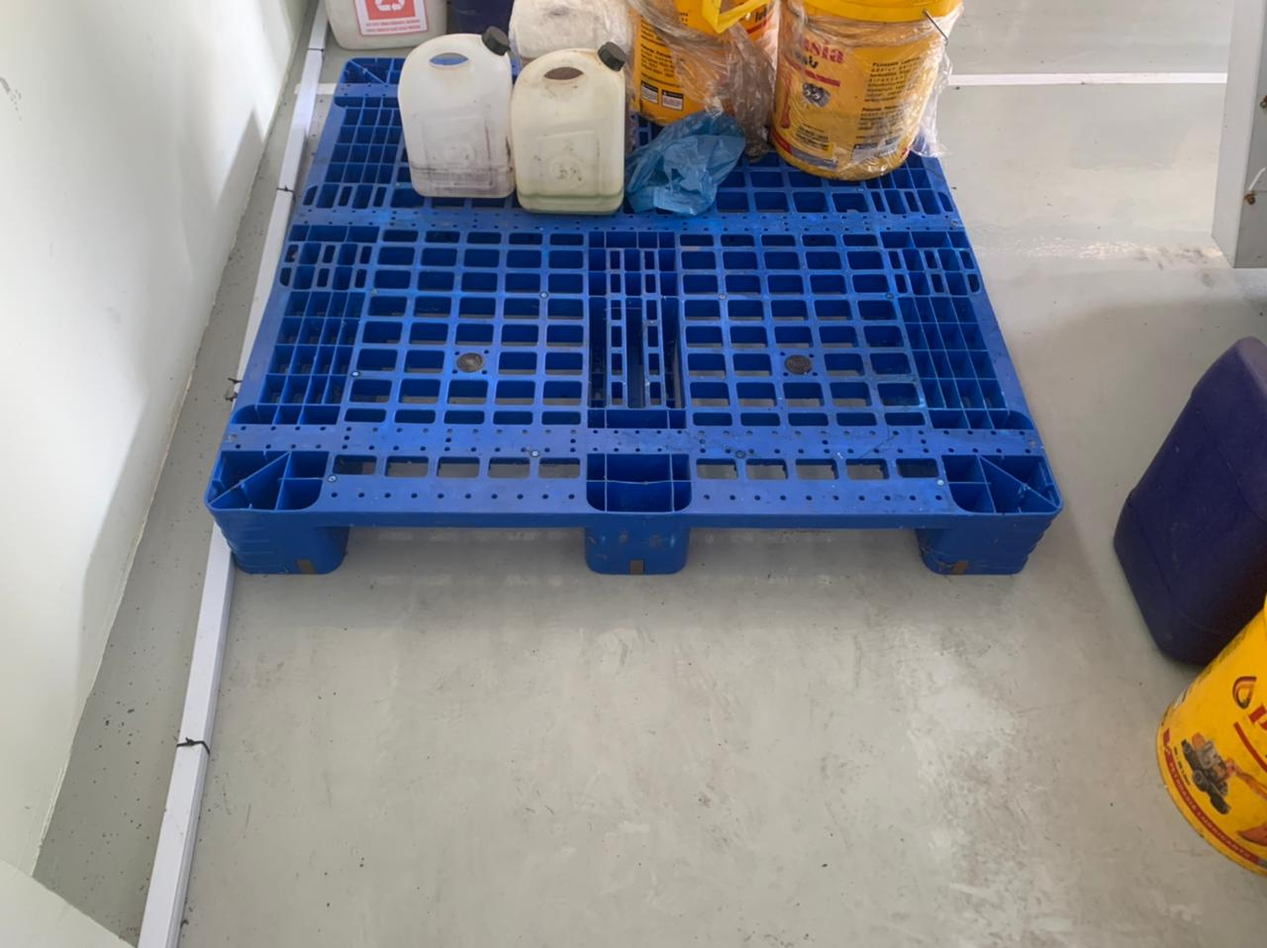block: (211, 505, 346, 575), (932, 510, 1061, 576), (585, 512, 693, 574)
front: (210, 505, 1060, 576)
hole pallet: (688, 522, 945, 568), (322, 528, 589, 567)
